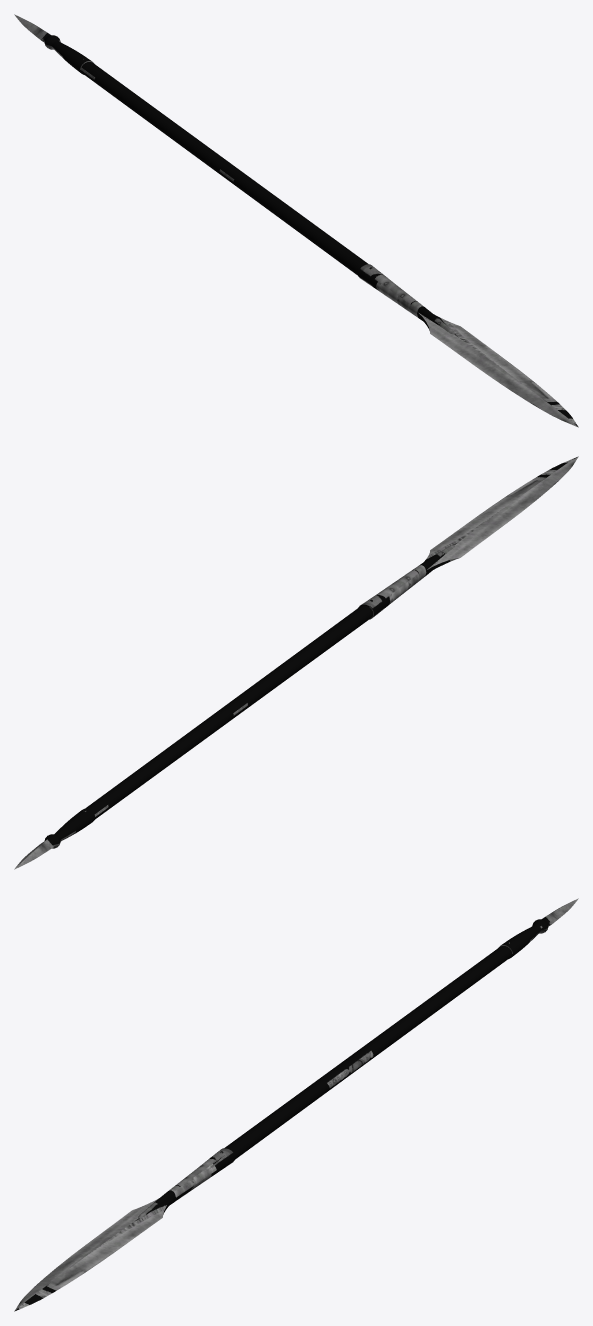
3 views of the same model, one above another, from view 1: azimuth 30°, elevation 25°; view 2: azimuth 150°, elevation 25°; view 3: azimuth 330°, elevation 25° (orthographic).
Parts seen in each view (by area): view 1: mesh_0; view 2: mesh_0; view 3: mesh_0.
Part boxes in pixels (x1,y1,x2,y2): mesh_0: [14, 14, 578, 427]; mesh_0: [14, 456, 578, 869]; mesh_0: [14, 898, 578, 1311].
Size of the model in its own units: 4.23 by 2.15 by 135.
Materials: 1 (1 with a texture image).
